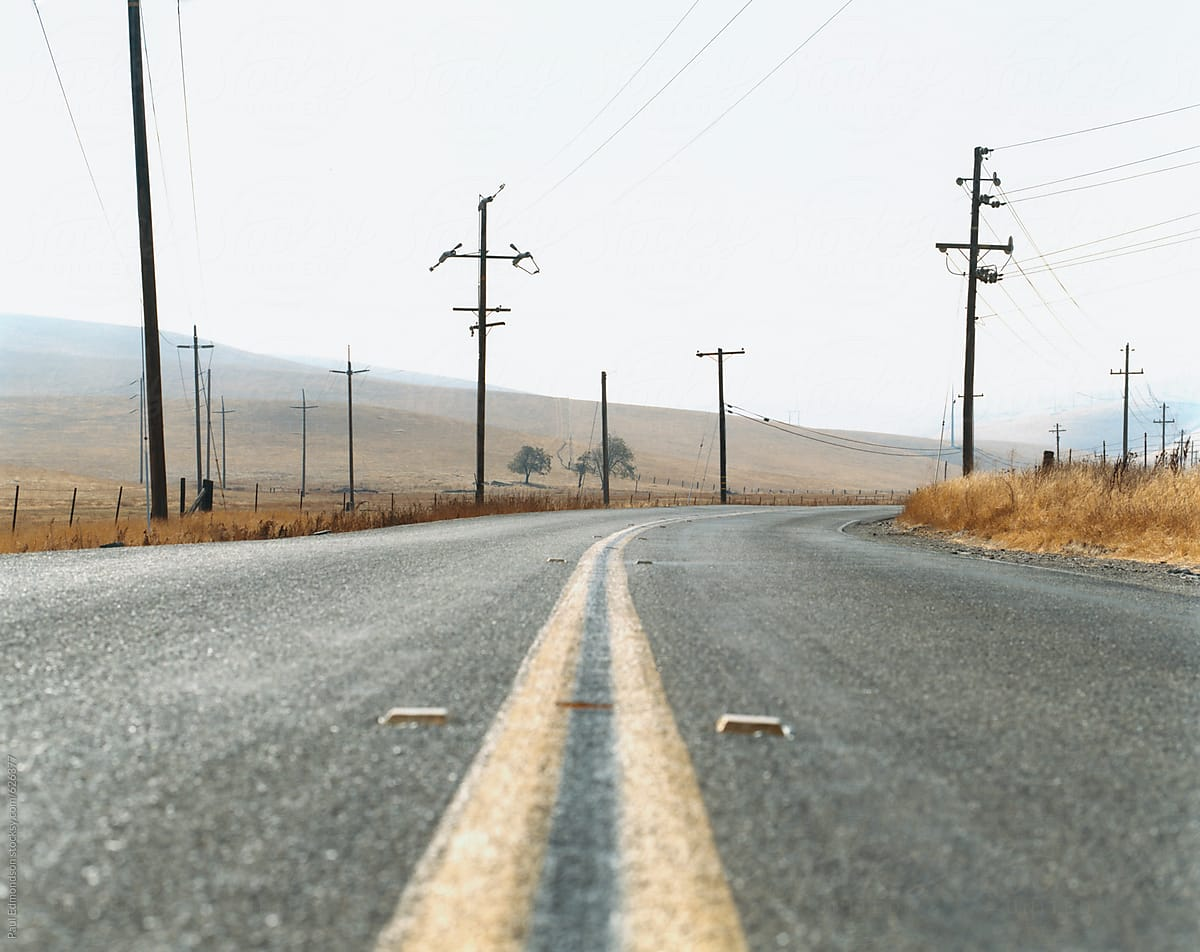utility_pole: (421, 171, 545, 343), (927, 131, 1021, 312)
